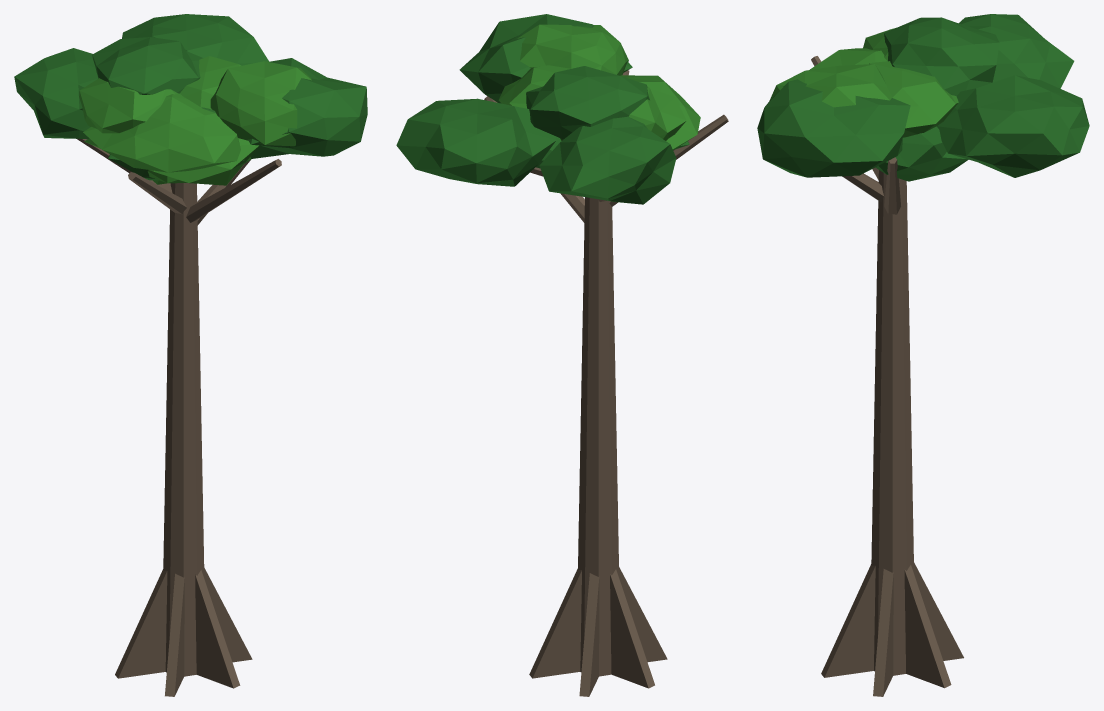
The model's file is JU_Tree_Kapok.obj.
The picture shows the model from 3 angles, left to right: view 1: azimuth 30°, elevation 25°; view 2: azimuth 150°, elevation 25°; view 3: azimuth 270°, elevation 25°; orthographic projection. The views are drawn at different scales.
Visible parts, largest first — view 1: trunk, crown_0, crown_7, crown_4, crown_1, crown_5, crown_9, crown_2, buttress_3, buttress_1, buttress_2, crown_6 (+4 smaller); view 2: trunk, crown_9, crown_1, crown_5, crown_4, crown_7, buttress_5, buttress_3, buttress_4, crown_2, crown_0, crown_8 (+2 smaller); view 3: trunk, crown_9, crown_7, crown_5, crown_1, buttress_1, crown_8, buttress_5, crown_4, crown_11, buttress_0, buttress_4 (+3 smaller).
Boxes of the visible parts, x1=… form: trunk: x1=163, y1=183, x2=204, y2=676; crown_0: x1=83, y1=93, x2=243, y2=172; crown_7: x1=248, y1=58, x2=367, y2=158; crown_4: x1=210, y1=61, x2=311, y2=146; crown_1: x1=14, y1=48, x2=98, y2=139; crown_5: x1=92, y1=37, x2=203, y2=94; crown_9: x1=122, y1=14, x2=268, y2=65; crown_2: x1=79, y1=78, x2=177, y2=133; buttress_3: x1=115, y1=569, x2=167, y2=678; buttress_1: x1=195, y1=570, x2=240, y2=688; buttress_2: x1=165, y1=573, x2=184, y2=696; crown_6: x1=149, y1=138, x2=259, y2=185; trunk: x1=578, y1=197, x2=619, y2=676; crown_9: x1=396, y1=98, x2=556, y2=186; crown_1: x1=539, y1=116, x2=676, y2=204; crown_5: x1=526, y1=66, x2=649, y2=139; crown_4: x1=517, y1=24, x2=628, y2=75; crown_7: x1=459, y1=14, x2=632, y2=103; buttress_5: x1=529, y1=568, x2=581, y2=678; buttress_3: x1=610, y1=569, x2=654, y2=688; buttress_4: x1=579, y1=573, x2=599, y2=696; crown_2: x1=560, y1=87, x2=686, y2=140; crown_0: x1=620, y1=75, x2=700, y2=150; crown_8: x1=498, y1=65, x2=571, y2=108; trunk: x1=871, y1=170, x2=914, y2=675; crown_9: x1=937, y1=75, x2=1089, y2=177; crown_7: x1=757, y1=79, x2=910, y2=177; crown_5: x1=884, y1=17, x2=999, y2=95; crown_1: x1=959, y1=14, x2=1074, y2=88; buttress_1: x1=821, y1=564, x2=875, y2=677; crown_8: x1=869, y1=61, x2=958, y2=137; buttress_5: x1=904, y1=565, x2=951, y2=688; crown_4: x1=769, y1=64, x2=891, y2=107; crown_11: x1=875, y1=126, x2=968, y2=181; buttress_0: x1=873, y1=569, x2=893, y2=696; buttress_4: x1=914, y1=562, x2=963, y2=660.
Size of the model in its own units: 20.82 by 47.17 by 22.5.
